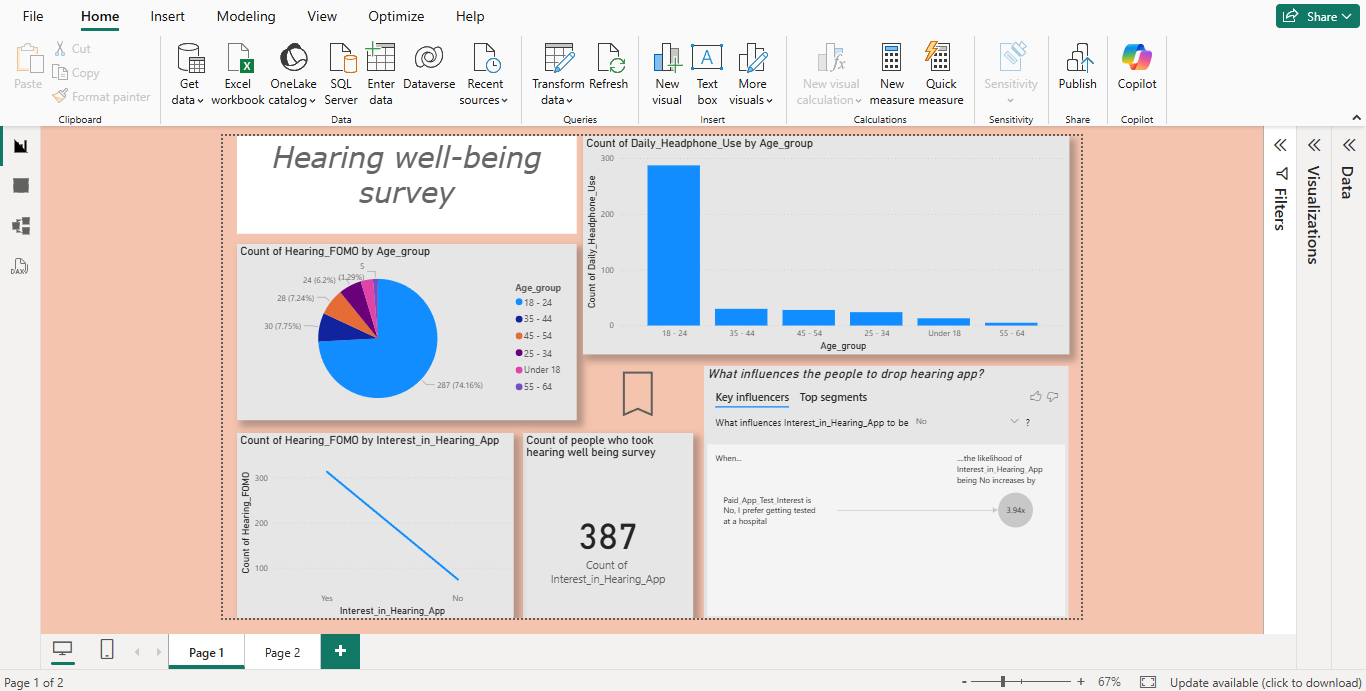

This screenshot's page, from the dashboard's own definition file:
{"tool":"powerbi","page":{"name":"Page 1","canvas":[1280,720],"ordinal":0},"visuals":[{"type":"pieChart","fields":{"Category":["Hearing well-being Survey Report.Age_group"],"Y":["CountNonNull(Hearing well-being Survey Report.Hearing_FOMO)"]},"box":[20.4,161.1,507.4,263],"z":0},{"type":"textbox","box":[20.4,0,507.4,146.3],"z":1000},{"type":"lineStackedColumnComboChart","fields":{"Category":["Hearing well-being Survey Report.Age_group"],"Y":["CountNonNull(Hearing well-being Survey Report.Daily_Headphone_Use)"]},"box":[537,0,725.9,325.9],"z":2000},{"type":"keyDriversVisual","title":"What influences the people to drop hearing app?","fields":{"Target":["Hearing well-being Survey Report.Interest_in_Hearing_App"],"ExplainBy":["Hearing well-being Survey Report.Paid_App_Test_Interest"]},"box":[718.5,342.6,544.4,377.8],"z":3000},{"type":"card","title":"Count of people who took hearing well being survey","fields":{"Values":["CountNonNull(Hearing well-being Survey Report.Interest_in_Hearing_App)"]},"box":[448.1,442.6,253.7,277.8],"z":4000},{"type":"lineChart","fields":{"Category":["Hearing well-being Survey Report.Interest_in_Hearing_App"],"Y":["CountNonNull(Hearing well-being Survey Report.Hearing_FOMO)"]},"box":[20.4,442.6,413,277.8],"z":5000},{"type":"actionButton","box":[577.8,342.6,125.9,83.3],"z":6000}]}

Visuals, with their boxes on the page's 1280x720 design canvas (x1, y1, x2, y2). These are canvas units, not pixel positions in the 1366x691 screenshot, which may show the page scaled, cropped or inside an application window:
pieChart - Hearing well-being Survey Report.Age_group x CountNonNull(Hearing well-being Survey Report.Hearing_FOMO): (20, 161, 528, 424)
textbox: (20, 0, 528, 146)
lineStackedColumnComboChart - Hearing well-being Survey Report.Age_group x CountNonNull(Hearing well-being Survey Report.Daily_Headphone_Use): (537, 0, 1263, 326)
"What influences the people to drop hearing app?" keyDriversVisual: (718, 343, 1263, 720)
"Count of people who took hearing well being survey" card: (448, 443, 702, 720)
lineChart - Hearing well-being Survey Report.Interest_in_Hearing_App x CountNonNull(Hearing well-being Survey Report.Hearing_FOMO): (20, 443, 433, 720)
actionButton: (578, 343, 704, 426)
